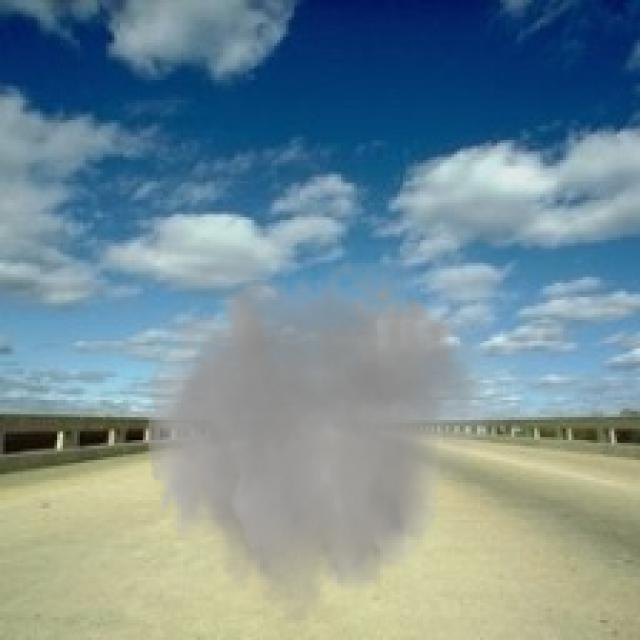smoke: (137, 243, 514, 637)
